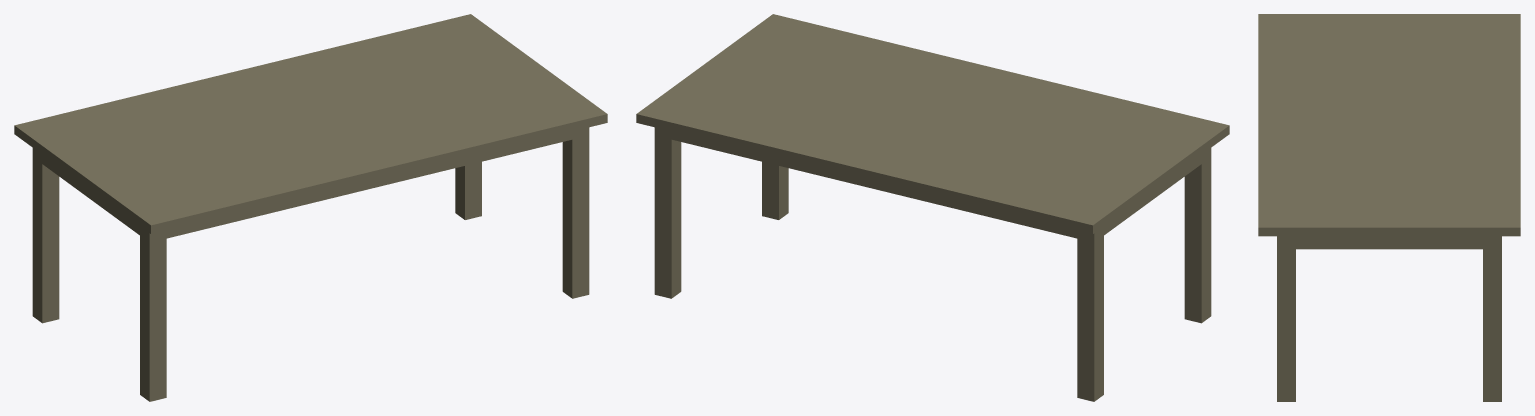
Rendered from diningTable.fbx.
3 views of the same model, side by side, from view 1: azimuth 30°, elevation 25°; view 2: azimuth 150°, elevation 25°; view 3: azimuth 270°, elevation 25° (orthographic). The views are drawn at different scales.
Parts seen in each view (by area): view 1: block_default_11, block_default_9, block_default_13, block_default_15, block_default_14, block_default_12; view 2: block_default_11, block_default_9, block_default_12, block_default_14, block_default_15, block_default_13; view 3: block_default_11, block_default_9, block_default_12, block_default_13.
Part boxes in pixels (x1,y1,x2,y2): block_default_11: (14,14,607,233); block_default_9: (32,127,589,242); block_default_13: (562,135,589,298); block_default_15: (32,157,59,323); block_default_14: (140,236,166,401); block_default_12: (455,161,481,219); block_default_11: (636,14,1229,233); block_default_9: (654,127,1211,242); block_default_12: (654,135,681,298); block_default_14: (1184,157,1211,323); block_default_15: (1077,236,1103,401); block_default_13: (762,161,788,219); block_default_11: (1258,14,1520,236); block_default_9: (1277,236,1501,249); block_default_12: (1483,249,1501,401); block_default_13: (1277,249,1295,401).
Size of the model in its own units: 54 by 21 by 28.
